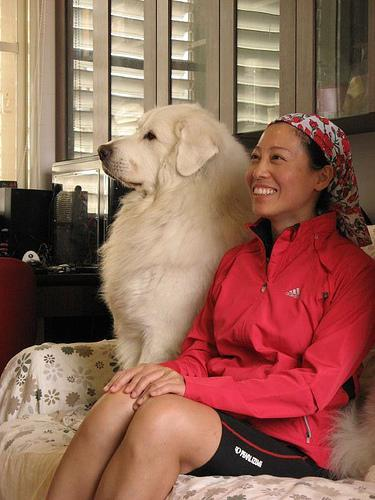Great_Pyrenees: (97, 100, 373, 482)
